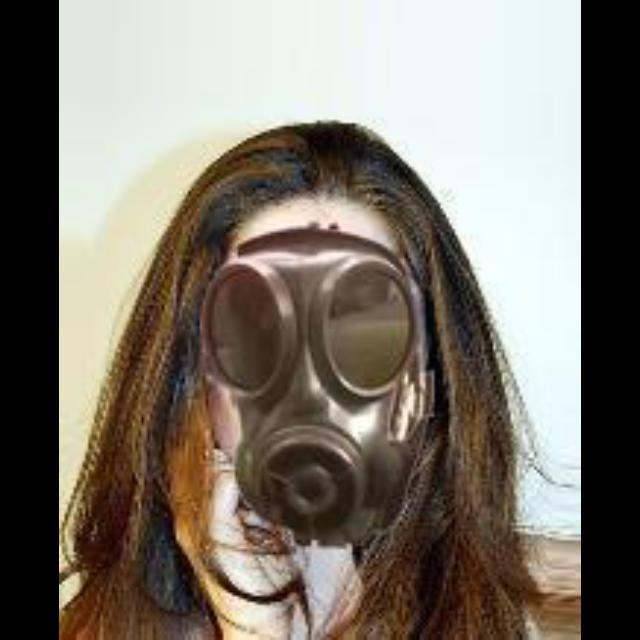suspicion: (190, 167, 450, 557)
